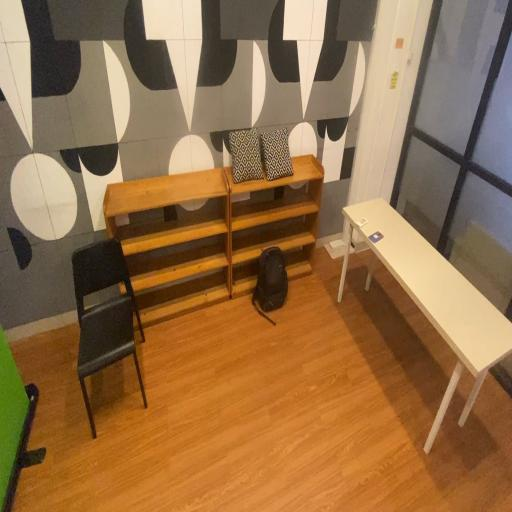bantal: (228, 126, 265, 184), (263, 124, 294, 183)
hp: (367, 228, 386, 246)
kursi: (70, 233, 152, 442)
lemari: (102, 165, 230, 327)
meja: (335, 194, 512, 456)
remote AC: (357, 213, 368, 229)
tas ransel: (252, 244, 290, 327)
